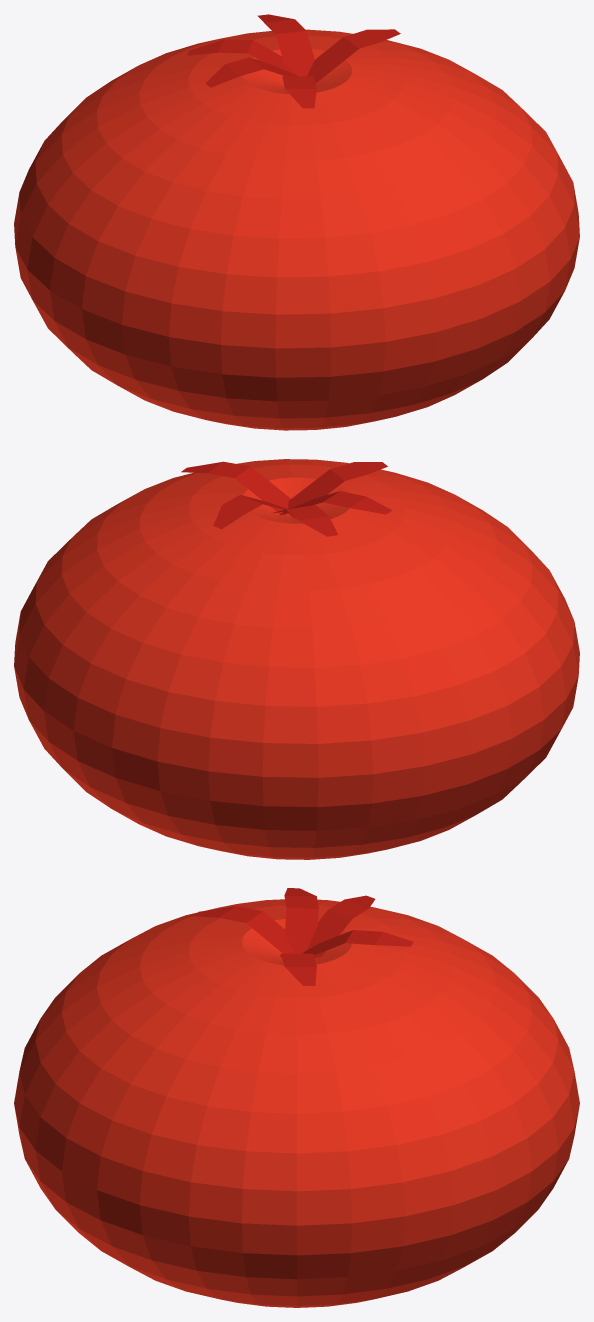
Rendered from tomato.fbx.
The picture shows the model from 3 angles, top to bottom: view 1: azimuth 30°, elevation 25°; view 2: azimuth 150°, elevation 25°; view 3: azimuth 270°, elevation 25°; orthographic projection.
Visible parts, largest first — view 1: Plane.001; view 2: Plane.001; view 3: Plane.001.
Boxes of the visible parts, box(x1,y1,x2,y2) form: Plane.001: box(14, 14, 579, 430); Plane.001: box(14, 459, 579, 859); Plane.001: box(14, 888, 579, 1307).
Bounding box in the file's own units: 288 × 187 × 281.
